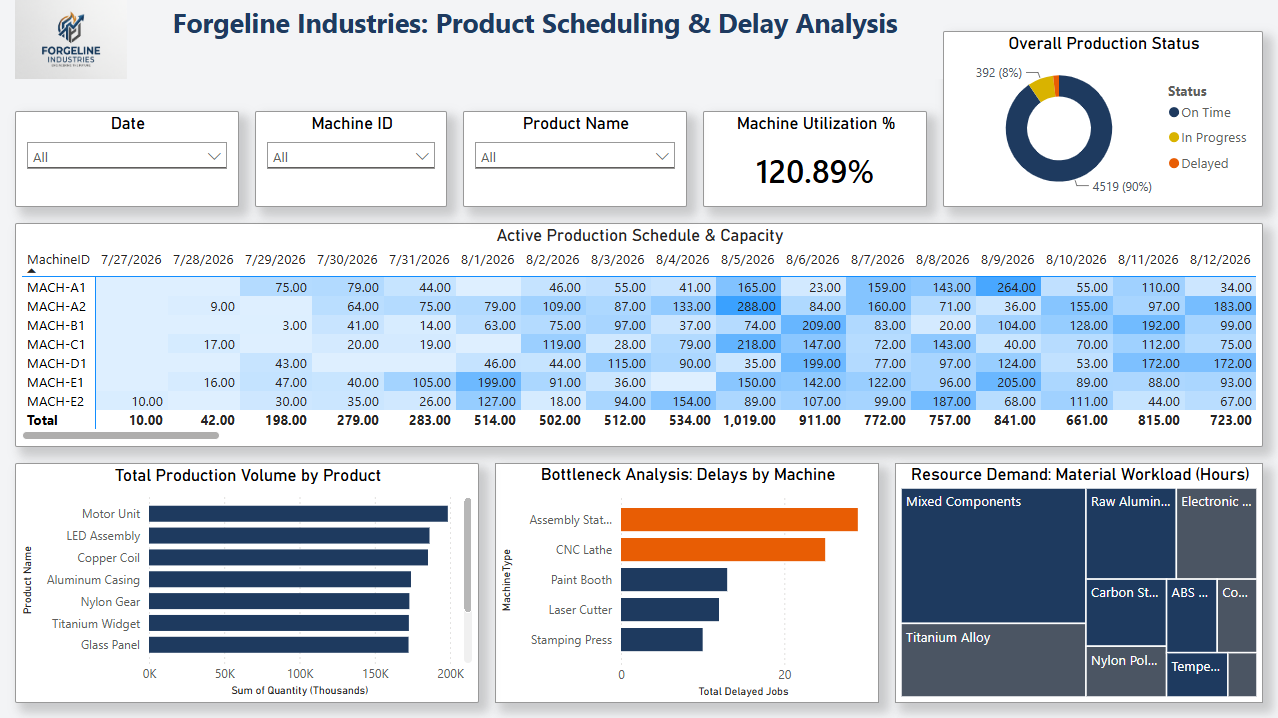

This screenshot's page, from the dashboard's own definition file:
{"tool":"powerbi","page":{"name":"Page 1","canvas":[1280,720],"ordinal":0},"visuals":[{"type":"cardVisual","title":"Machine Utilization %","fields":{"Data":["Master_Machines.Machine Utilization %"]},"box":[704,112,224,96],"z":0},{"type":"slicer","title":"Date","fields":{"Values":["DateTable.Week Start"]},"box":[16,112,224,96],"z":1000},{"type":"donutChart","title":"Overall Production Status","fields":{"Category":["Production_Schedule.Production Status"],"Y":["CountNonNull(Production_Schedule.ScheduleID)"]},"box":[944,32,320,176],"z":2000},{"type":"pivotTable","title":"Active Production Schedule & Capacity","fields":{"Columns":["DateTable.Date"],"Rows":["Master_Machines.MachineID"],"Values":["Production_Schedule.Scheduled Hours"]},"box":[16,224,1248,224],"z":3000},{"type":"clusteredBarChart","title":"Bottleneck Analysis: Delays by Machine","fields":{"Category":["Master_Machines.MachineType"],"Y":["Production_Schedule.Total Delayed Jobs"]},"box":[496,464,384,240],"z":4000},{"type":"treemap","title":"Resource Demand: Material Workload (Hours)","fields":{"Group":["Master_Products.MaterialRequired"],"Values":["Orders_Data.Material Workload (Hours)"]},"box":[896,464,368,240],"z":5000},{"type":"clusteredBarChart","title":"Total Production Volume by Product","fields":{"Category":["Master_Products.ProductName"],"Y":["Sum(Orders_Data.Quantity)"]},"box":[16,464,464,240],"z":6000},{"type":"slicer","title":"Machine ID","fields":{"Values":["Master_Machines.MachineType"]},"box":[256,112,192,96],"z":7000},{"type":"slicer","title":"Product Name","fields":{"Values":["Master_Products.ProductName"]},"box":[464,112,224,96],"z":8000},{"type":"textbox","box":[128,0,816,80],"z":9000},{"type":"image","box":[16,0,112,80],"z":10000}]}

Visuals, with their boxes in screenshot pixels (x1, y1, x2, y2), scaled from the page's 1280x720 canvas onto the 1278x718 screenshot:
"Machine Utilization %" cardVisual: box=[703, 112, 927, 207]
"Date" slicer: box=[16, 112, 240, 207]
"Overall Production Status" donutChart: box=[943, 32, 1262, 207]
"Active Production Schedule & Capacity" pivotTable: box=[16, 223, 1262, 447]
"Bottleneck Analysis: Delays by Machine" clusteredBarChart: box=[495, 463, 879, 702]
"Resource Demand: Material Workload (Hours)" treemap: box=[895, 463, 1262, 702]
"Total Production Volume by Product" clusteredBarChart: box=[16, 463, 479, 702]
"Machine ID" slicer: box=[256, 112, 447, 207]
"Product Name" slicer: box=[463, 112, 687, 207]
textbox: box=[128, 0, 943, 80]
image: box=[16, 0, 128, 80]
